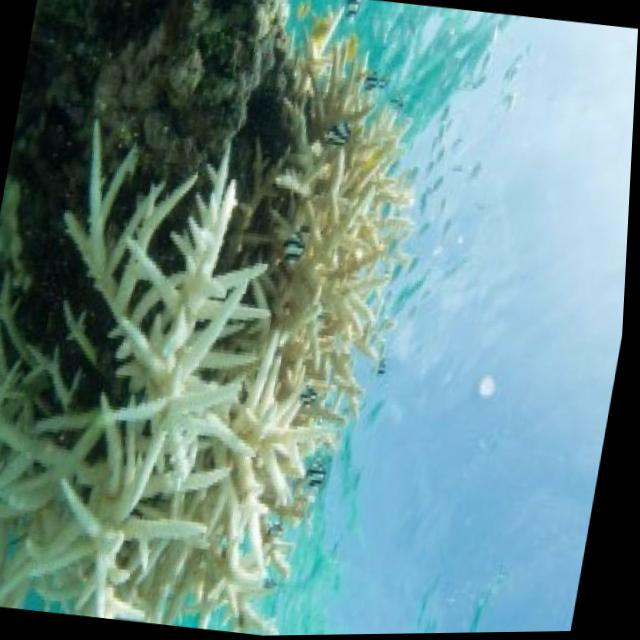Bleached Coral: (0, 48, 439, 640)
